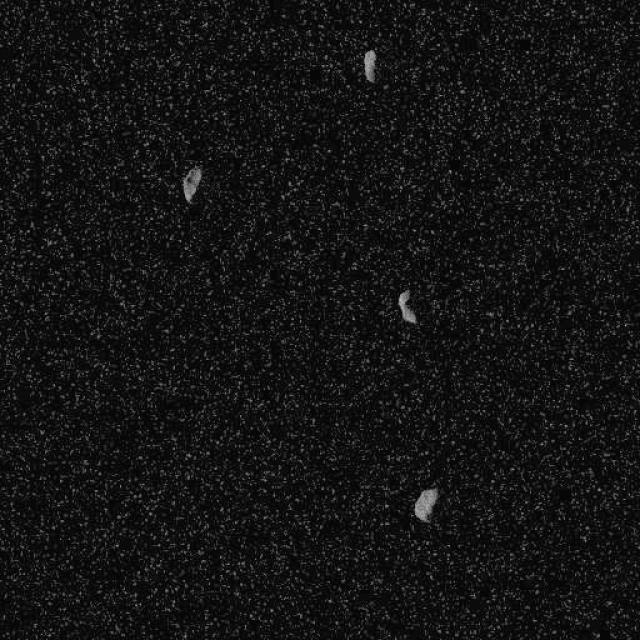D2: (412, 485, 438, 524), (180, 164, 202, 204), (397, 288, 418, 324), (362, 48, 378, 82)
